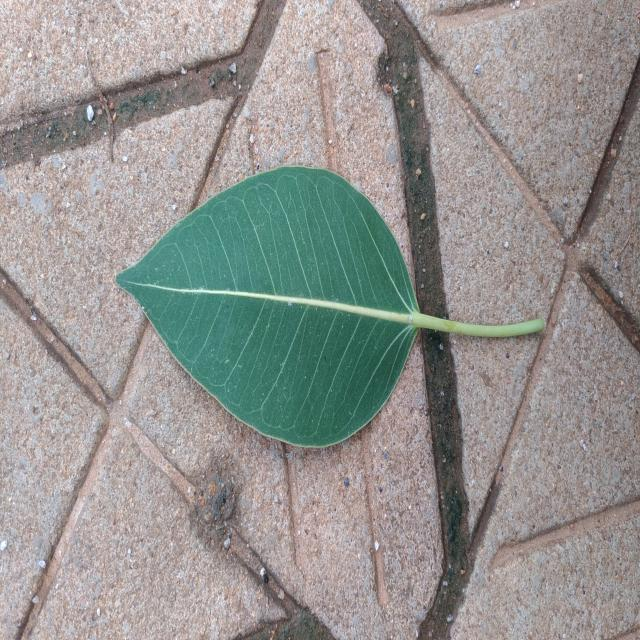camphor: (116, 167, 430, 447)
